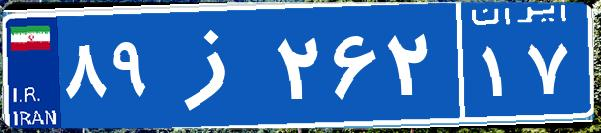1: (475, 38, 525, 113)
2: (385, 28, 445, 110), (273, 28, 330, 110)
6: (330, 28, 385, 110)
7: (525, 38, 570, 115)
8: (57, 26, 110, 107)
9: (110, 28, 158, 105)
ز: (158, 15, 273, 115)
